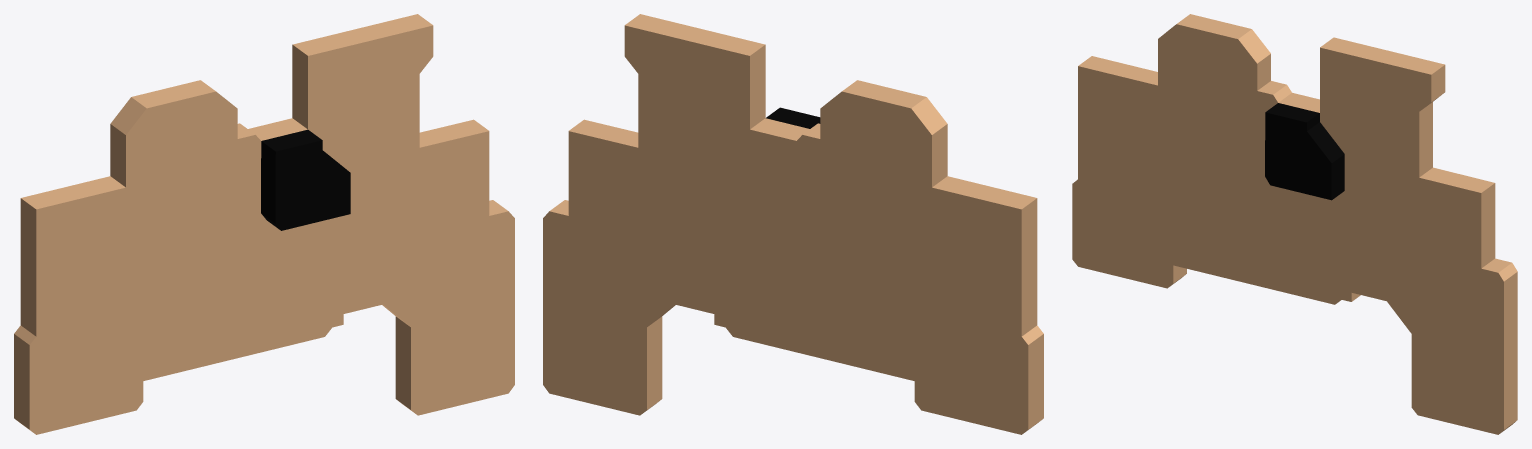
File: LibraryBase.fbx
3 views of the same model, side by side, from view 1: azimuth 30°, elevation 25°; view 2: azimuth 150°, elevation 25°; view 3: azimuth 330°, elevation 25° (orthographic). The views are drawn at different scales.
Visible parts, largest first — view 1: LibraryBase, BlockedOffice; view 2: LibraryBase, BlockedOffice; view 3: LibraryBase, BlockedOffice.
Boxes of the visible parts, box(x1,y1,x2,y2) form: LibraryBase: box(14, 14, 514, 434); BlockedOffice: box(261, 129, 350, 230); LibraryBase: box(543, 14, 1043, 434); BlockedOffice: box(766, 107, 820, 128); LibraryBase: box(1072, 14, 1517, 434); BlockedOffice: box(1265, 103, 1344, 200).
Size of the model in its own units: 3190 by 2428 by 343.
